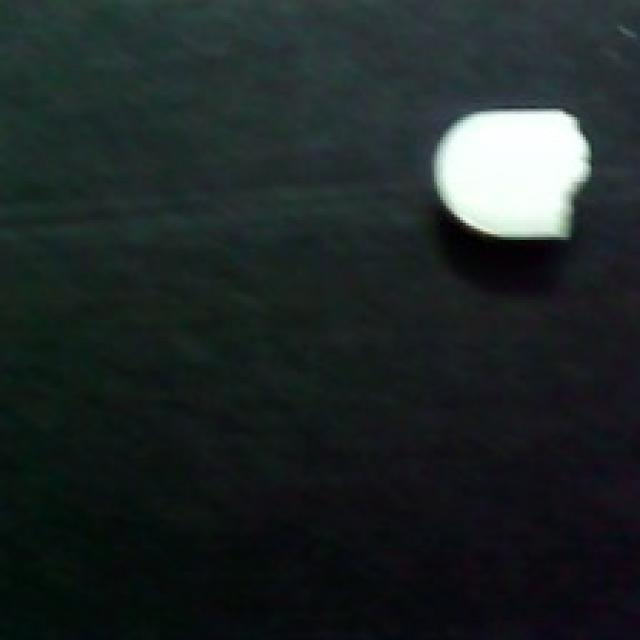defected: (423, 97, 594, 251)
